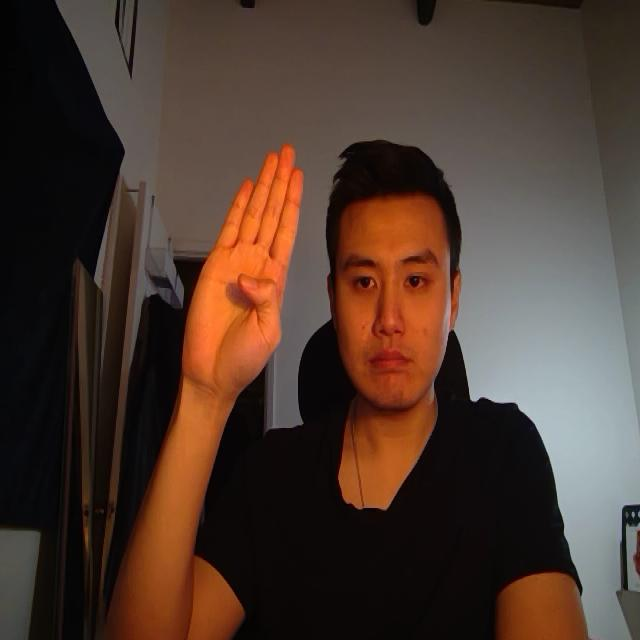B: (174, 130, 304, 426)
